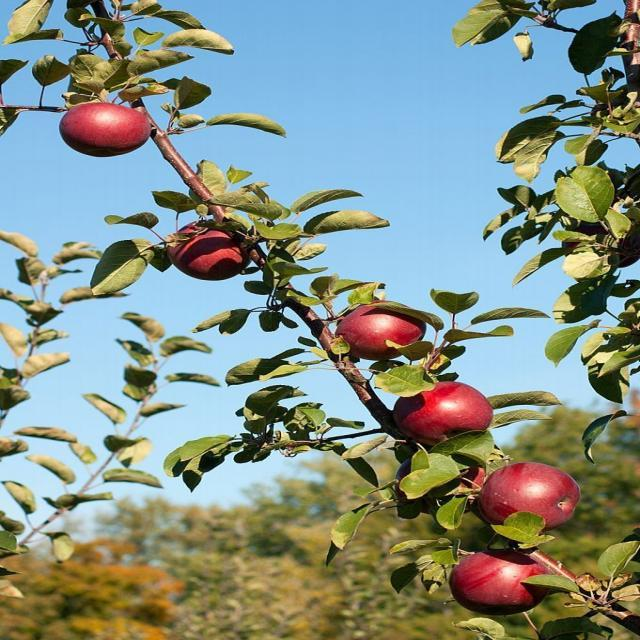Red Apple: (447, 546, 551, 609), (487, 462, 583, 522), (170, 223, 255, 283), (393, 385, 493, 434), (337, 304, 427, 356), (62, 107, 153, 156)
